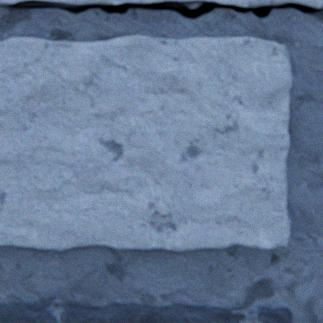brick: (0, 35, 292, 250), (0, 301, 291, 322), (0, 0, 170, 5), (207, 0, 322, 7), (173, 0, 205, 1)
crack: (1, 0, 321, 19)
